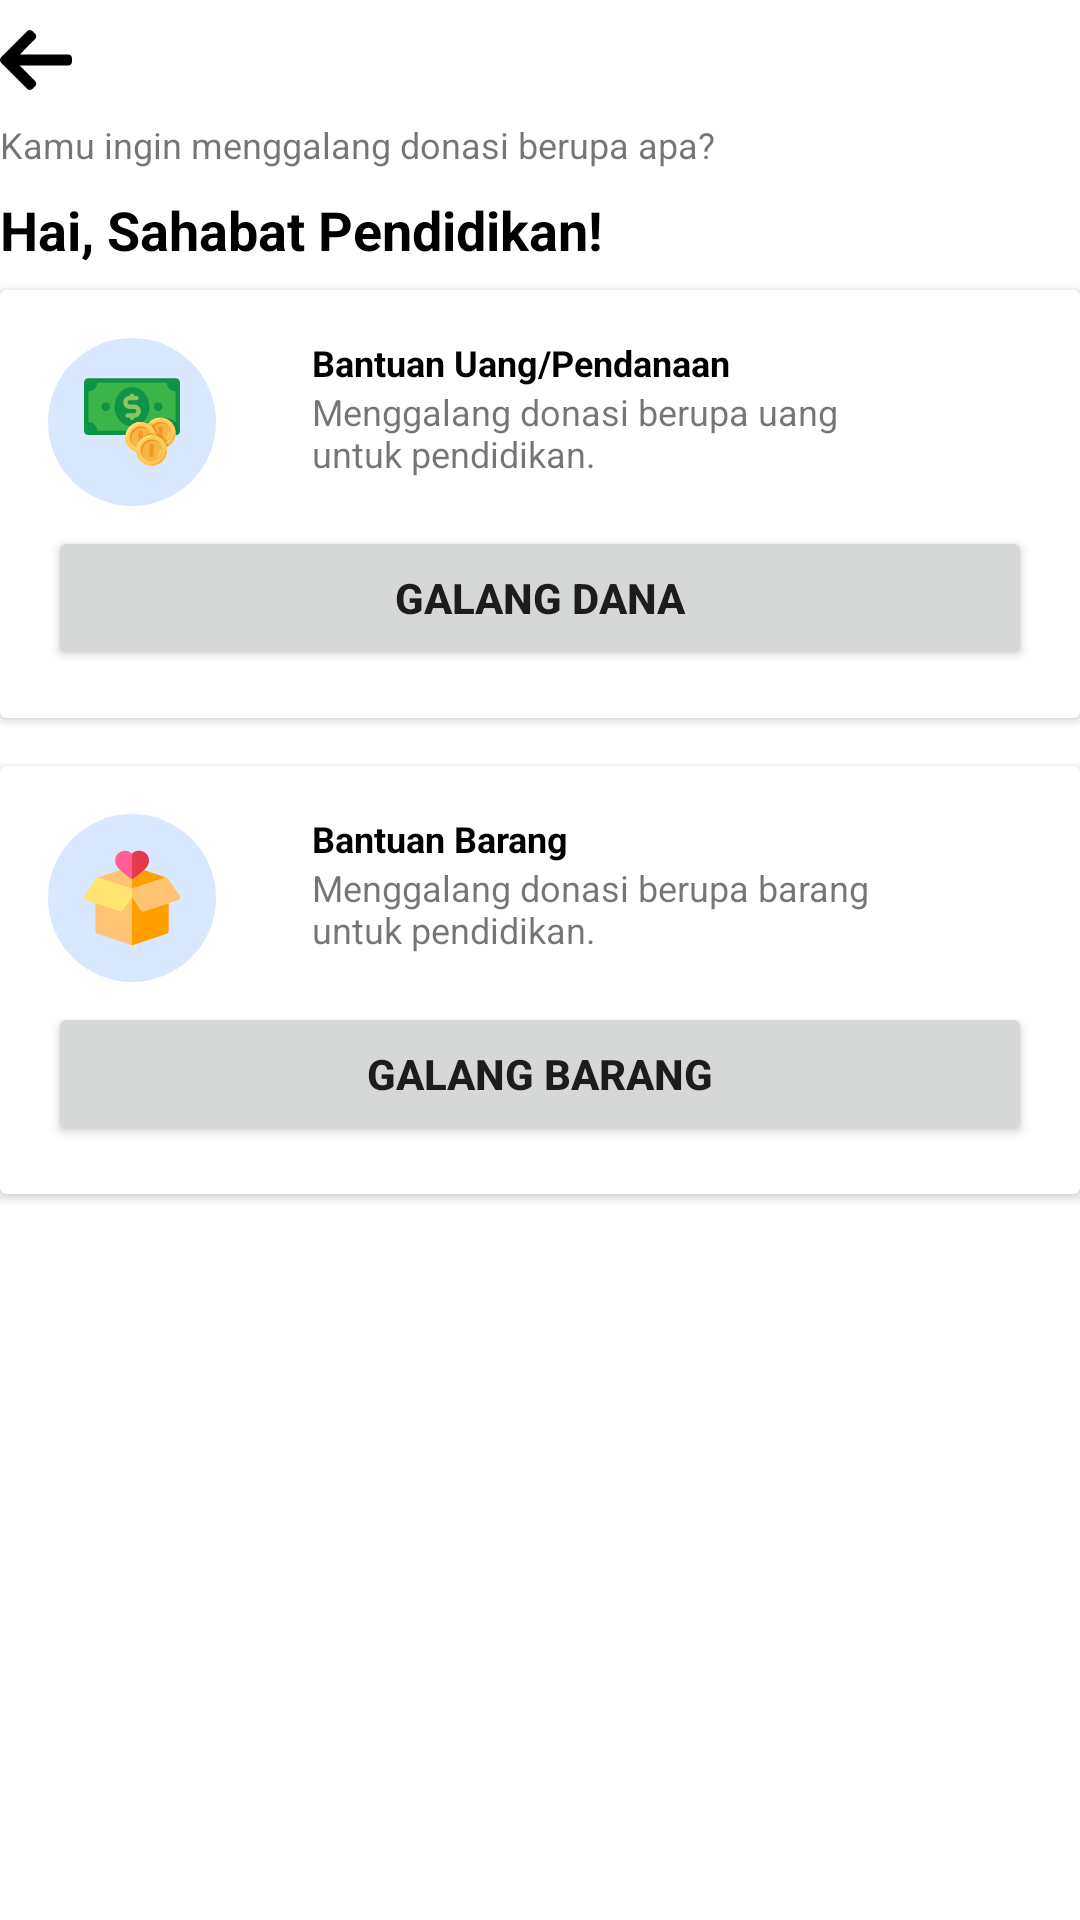

Named icons in this screenshot (1080 × 1920) and their bounding boxes, bbox=[x1, y1, x2, y2]:
back: bbox=[0, 30, 72, 90]
charity: bbox=[84, 850, 180, 945]
money: bbox=[84, 378, 180, 466]
